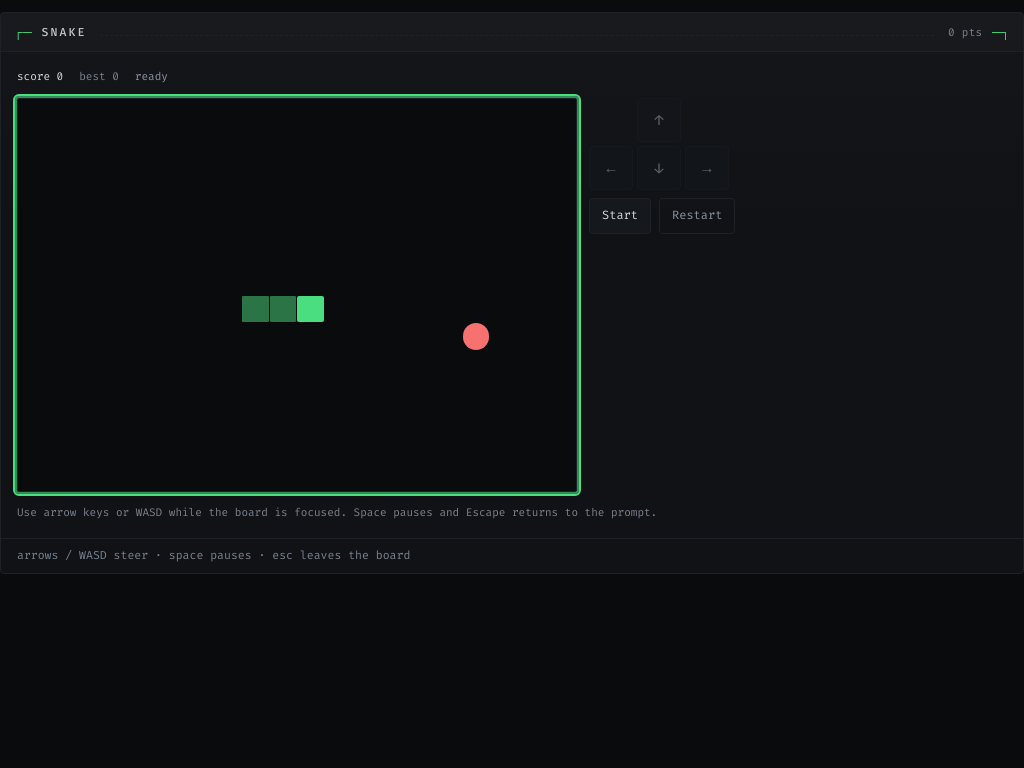
snake panel › starts, pauses with space, and keeps score visible
Click the button "Start" at (620, 216), box [589,198,651,234]
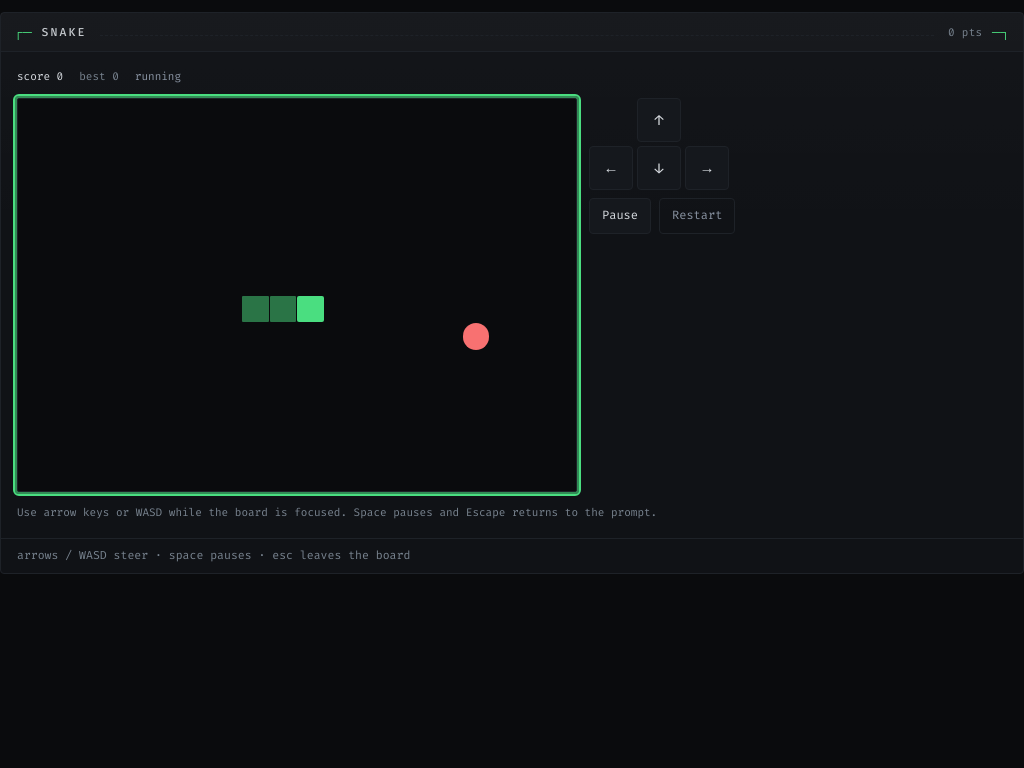
Now the text with test id "snake-status" reads "running", box [135,69,181,84]
Type keys " "
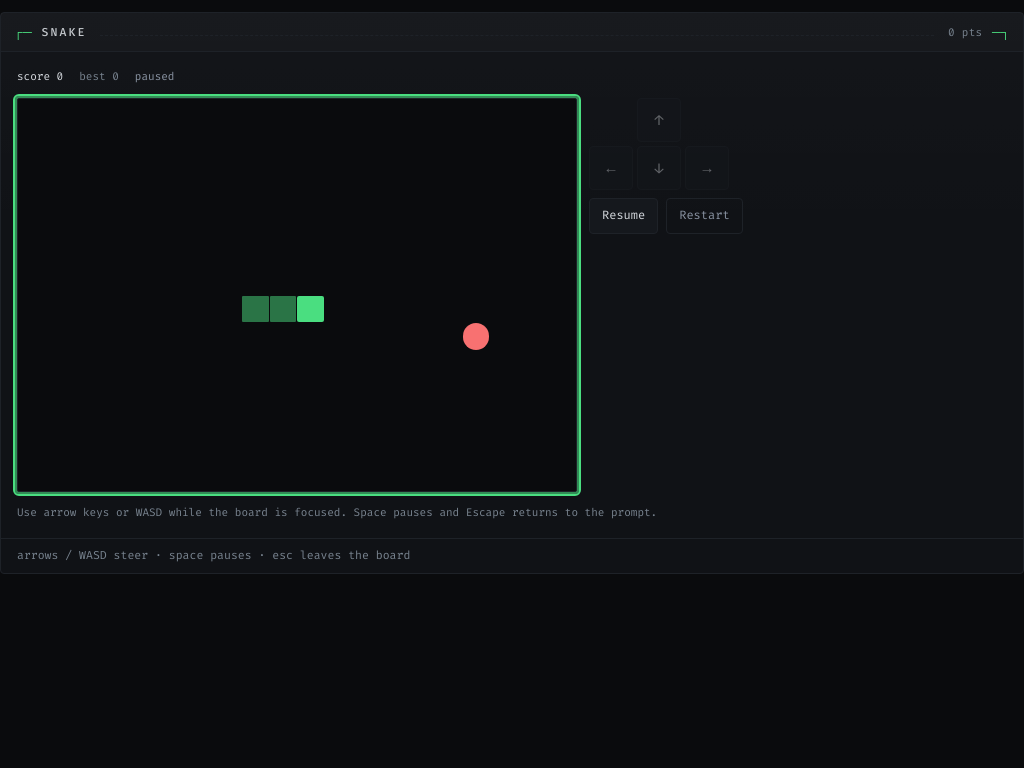
Expected: the text with test id "snake-score" reads "score 0", [17,68,63,86]
Now the text with test id "snake-status" reads "paused", box [135,69,174,84]
